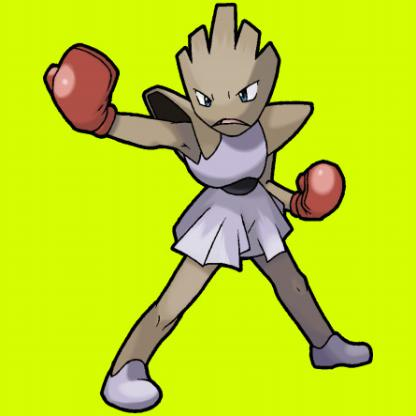Hitmonchan: (37, 1, 388, 416)
